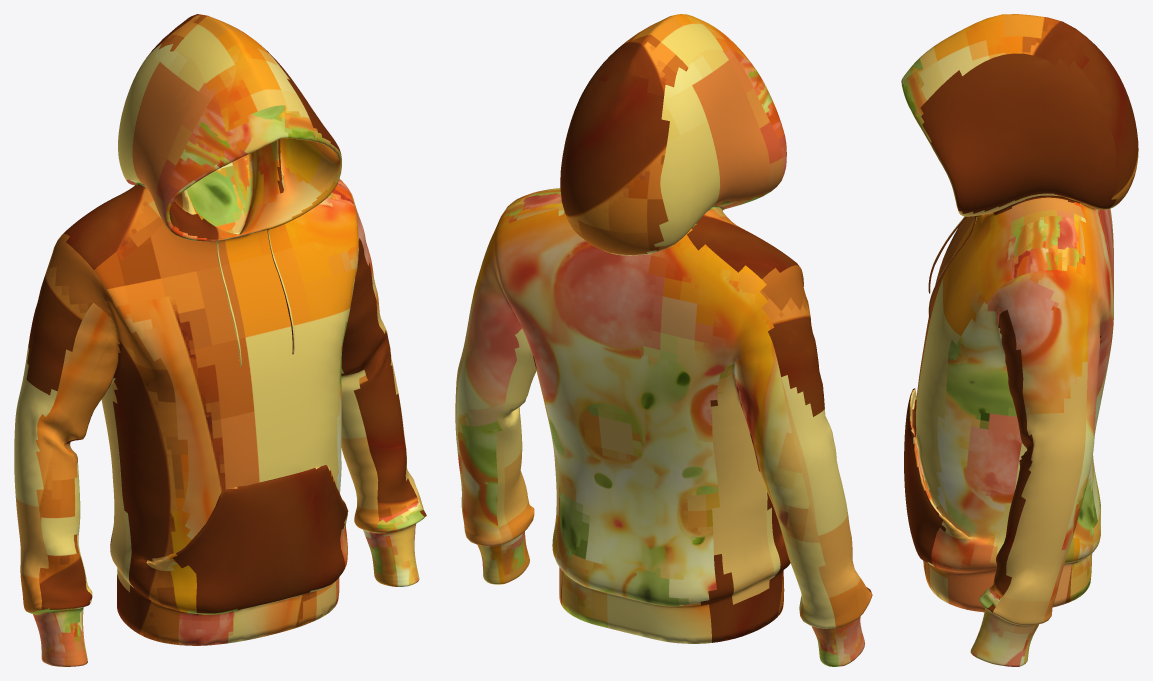
The model's file is base_striped.obj.
3 renders of one model, left to right at view 1: azimuth 30°, elevation 25°; view 2: azimuth 150°, elevation 25°; view 3: azimuth 270°, elevation 25°, orthographic. The views are drawn at different scales.
Size of the model in its own units: 1.3 by 1.9 by 0.7154.
